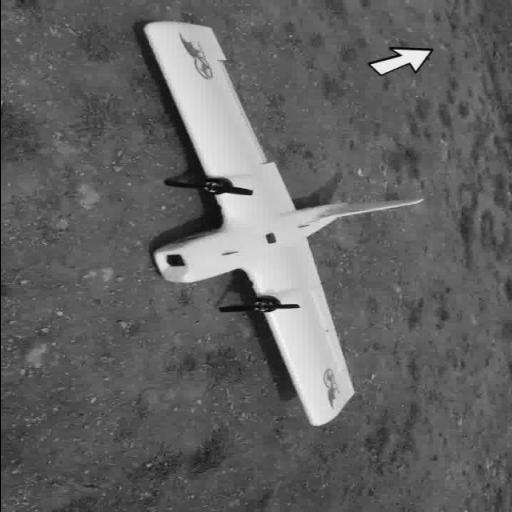uav: (135, 19, 427, 429)
